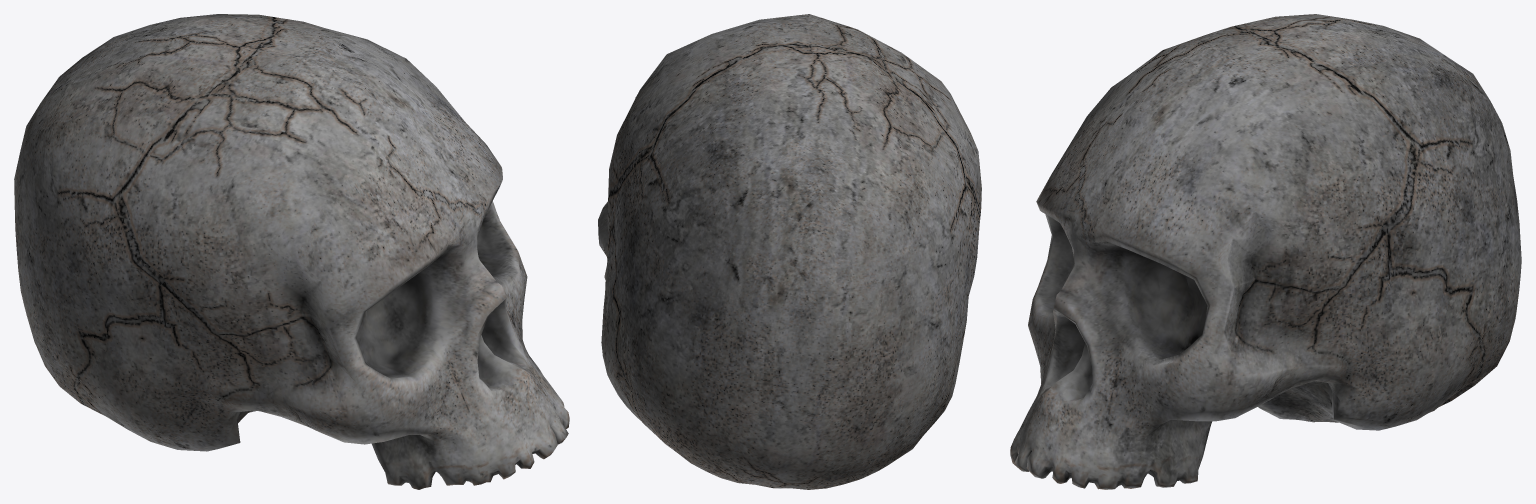
Rendered from skull.obj.
3 renders of one model, left to right at view 1: azimuth 30°, elevation 25°; view 2: azimuth 150°, elevation 25°; view 3: azimuth 270°, elevation 25°, orthographic.
Parts seen in each view (by area): view 1: skull; view 2: skull; view 3: skull.
Boxes of the visible parts, x1,y1,x2,y2 form: skull: (14,14,569,489); skull: (598,14,981,489); skull: (1010,14,1521,489).
Size of the model in its own units: 0.7019 by 0.6436 by 0.7719.
Materials: 1 (1 with a texture image).
